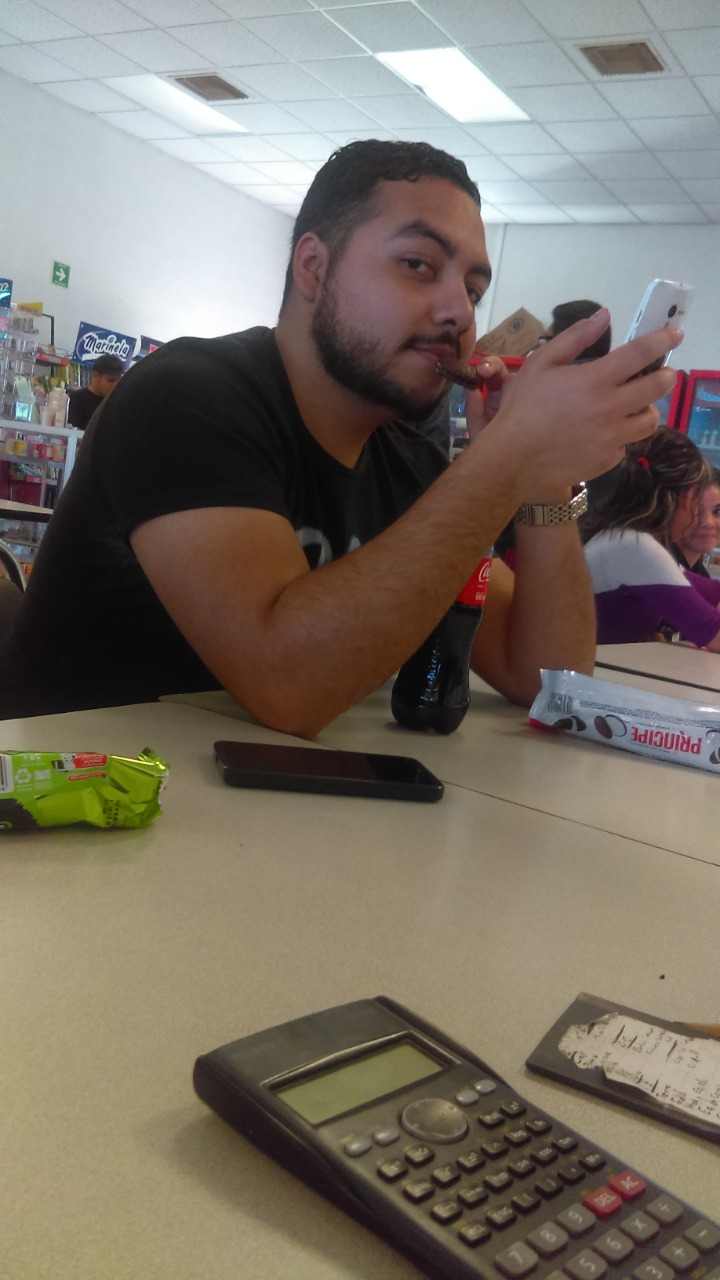Yoshi: (133, 97, 670, 742)
